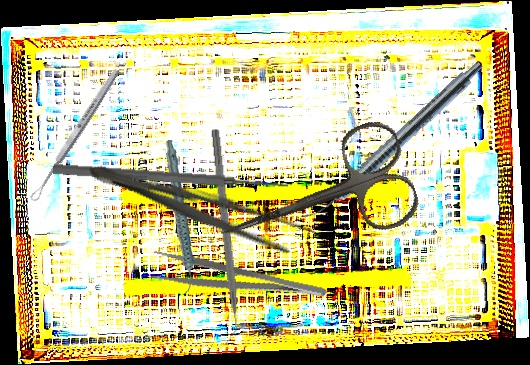Chopper: (199, 128, 243, 346)
Dressing Forceps: (82, 152, 320, 263), (147, 247, 330, 316)
Handpiece: (301, 55, 487, 230), (151, 139, 206, 294)
Iris Scissors: (202, 115, 425, 283)
Pusher: (52, 161, 289, 194)
Surgical Spoon: (28, 66, 122, 204)
